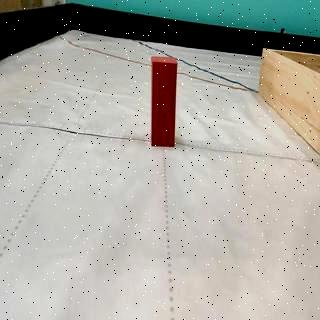redbox: (149, 56, 178, 148)
